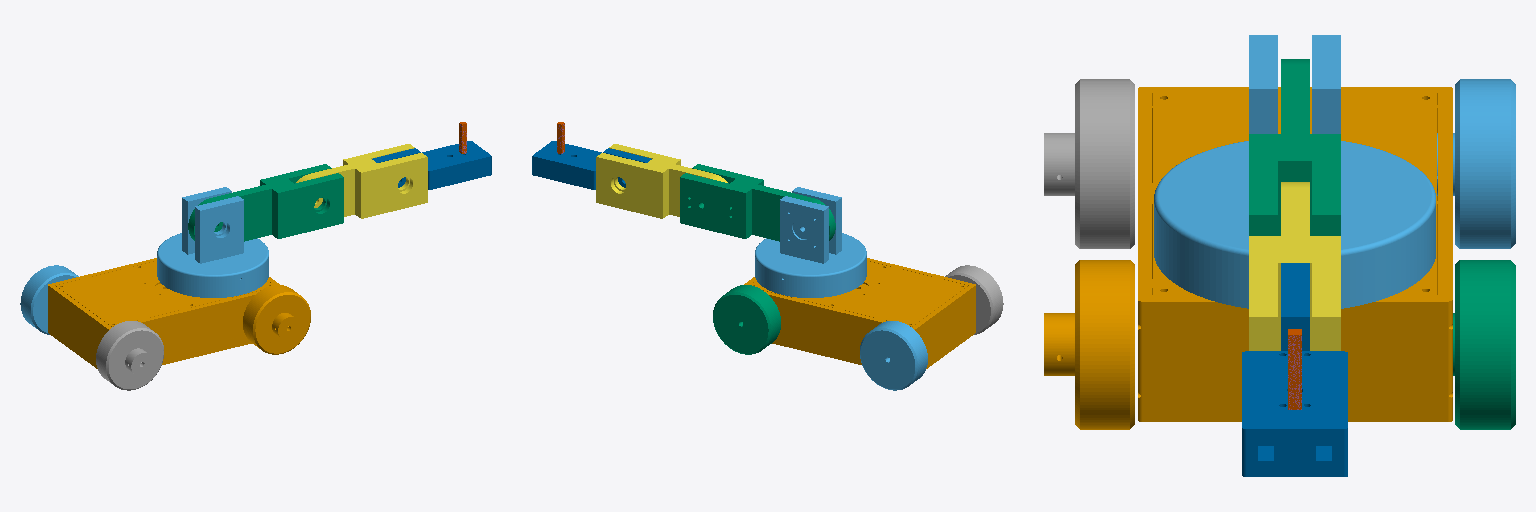
URDF robot description (rover_arm):
<?xml version='1.0' encoding='utf-8'?>
<robot name="rover_arm">
  <mujoco>
    <compiler discardvisual="false" strippath="false" balanceinertia="false" fusestatic="false" />
  </mujoco>
  <link name="base_link">
    <inertial>
      <origin xyz="0.00266683 -0.00320218 0.0271552" rpy="0 0 0" />
      <mass value="2.1159" />
      <inertia ixx="0.00373087" ixy="-0.000309093" ixz="-0.000259285" iyy="0.0133678" iyz="-8.5296e-05" izz="0.0161735" />
    </inertial>
    <visual>
      <origin xyz="0 0 0" rpy="0 0 0" />
      <geometry>
        <mesh filename="meshes/base_link.stl" scale="0.001 0.001 0.001" />
      </geometry>
    </visual>
    <collision>
      <origin xyz="0 0 0.0015" rpy="0 0 0" />
      <geometry>
        <box size="0.21 0.13 0.003" />
      </geometry>
    </collision>
    <collision>
      <origin xyz="0 -0.062 0.0275" rpy="0 0 0" />
      <geometry>
        <box size="0.21 0.006 0.055" />
      </geometry>
    </collision>
    <collision>
      <origin xyz="0 0.062 0.0275" rpy="0 0 0" />
      <geometry>
        <box size="0.21 0.006 0.055" />
      </geometry>
    </collision>
    <collision>
      <origin xyz="-0.102 0 0.0275" rpy="0 0 0" />
      <geometry>
        <box size="0.006 0.118 0.055" />
      </geometry>
    </collision>
    <collision>
      <origin xyz="0.102 0 0.0275" rpy="0 0 0" />
      <geometry>
        <box size="0.006 0.118 0.055" />
      </geometry>
    </collision>
    <collision>
      <origin xyz="0 0 0.053" rpy="0 0 0" />
      <geometry>
        <box size="0.198 0.118 0.004" />
      </geometry>
    </collision>
  </link>
  <link name="turntable">
    <inertial>
      <origin xyz="2.28167e-08 0.0278455 0.0484881" rpy="0 0 0" />
      <mass value="1.47137" />
      <inertia ixx="0.00211943" ixy="9.39501e-10" ixz="8.19907e-10" iyy="0.00167008" iyz="-0.000424945" izz="0.00163093" />
    </inertial>
    <visual>
      <origin xyz="0 0 0" rpy="0 0 0" />
      <geometry>
        <mesh filename="meshes/turntable.stl" scale="0.001 0.001 0.001" />
      </geometry>
    </visual>
    <collision>
      <origin xyz="0 0 0.013" rpy="0 0 0" />
      <geometry>
        <cylinder radius="0.0583" length="0.026" />
      </geometry>
    </collision>
    <collision>
      <origin xyz="0 -0.013 0.056475" rpy="0 0 0" />
      <geometry>
        <box size="0.053 0.012 0.06095" />
      </geometry>
    </collision>
    <collision>
      <origin xyz="0 0.013 0.056475" rpy="0 0 0" />
      <geometry>
        <box size="0.053 0.012 0.06095" />
      </geometry>
    </collision>
  </link>
  <link name="link_shoulder">
    <inertial>
      <origin xyz="0.0880151 0.0040461 1.44388e-19" rpy="0 0 0" />
      <mass value="0.290339" />
      <inertia ixx="0.000100905" ixy="-3.76286e-05" ixz="-2.29424e-21" iyy="0.00058843" iyz="2.96493e-22" izz="0.000572454" />
    </inertial>
    <visual>
      <origin xyz="0 0 0" rpy="0 0 0" />
      <geometry>
        <mesh filename="meshes/link_shoulder.stl" scale="0.001 0.001 0.001" />
      </geometry>
    </visual>
    <collision>
      <origin xyz="0.06 0 0" rpy="0 0 0" />
      <geometry>
        <box size="0.12 0.012 0.053" />
      </geometry>
    </collision>
    <collision>
      <origin xyz="0.10675 0 0" rpy="0 0 0" />
      <geometry>
        <box size="0.0795 0.038 0.053" />
      </geometry>
    </collision>
  </link>
  <link name="link_elbow">
    <inertial>
      <origin xyz="0.0658699 1.80804e-19 2.22913e-19" rpy="0 0 0" />
      <mass value="0.212076" />
      <inertia ixx="6.93894e-05" ixy="2.52573e-21" ixz="-3.57186e-21" iyy="0.00035014" iyz="7.78426e-24" izz="0.000326462" />
    </inertial>
    <visual>
      <origin xyz="0 0 0" rpy="0 0 0" />
      <geometry>
        <mesh filename="meshes/link_elbow.stl" scale="0.001 0.001 0.001" />
      </geometry>
    </visual>
    <collision>
      <origin xyz="0.05 0 0" rpy="0 0 0" />
      <geometry>
        <box size="0.1 0.012 0.053" />
      </geometry>
    </collision>
    <collision>
      <origin xyz="0.08675 0 0" rpy="0 0 0" />
      <geometry>
        <box size="0.0795 0.038 0.053" />
      </geometry>
    </collision>
  </link>
  <link name="gripper_body">
    <inertial>
      <origin xyz="0.0496844 7.24163e-20 -0.00368519" rpy="0 0 0" />
      <mass value="0.179095" />
      <inertia ixx="4.21145e-05" ixy="1.12509e-21" ixz="9.77828e-06" iyy="0.000215351" iyz="3.65534e-22" izz="0.000204799" />
    </inertial>
    <visual>
      <origin xyz="0.0645 0 -0.011" rpy="0 0 0" />
      <geometry>
        <mesh filename="meshes/gripper_body.stl" scale="0.001 0.001 0.001" />
      </geometry>
    </visual>
    <collision>
      <origin xyz="0.0645 0 -0.011" rpy="0 0 0" />
      <geometry>
        <box size="0.076 0.044 0.022" />
      </geometry>
    </collision>
  </link>
  <link name="jaw_a">
    <inertial>
      <origin xyz="0.00915408 0.00650994 0.0111384" rpy="0 0 0" />
      <mass value="0.00405775" />
      <inertia ixx="1.00524e-06" ixy="-1.76866e-07" ixz="-3.01039e-07" iyy="1.31758e-06" iyz="-2.47092e-07" izz="6.05047e-07" />
    </inertial>
    <visual>
      <origin xyz="0 0 0" rpy="0 0 0" />
      <geometry>
        <mesh filename="meshes/jaw_a.stl" scale="0.001 0.001 0.001" />
      </geometry>
    </visual>
    <collision>
      <origin xyz="0 0 0" rpy="0 0 0" />
      <geometry>
        <box size="0.0376991 0.006 0.006" />
      </geometry>
    </collision>
    <collision>
      <origin xyz="0.0158496 0.012 0.0225" rpy="0 0 0" />
      <geometry>
        <box size="0.006 0.006 0.045" />
      </geometry>
    </collision>
  </link>
  <link name="jaw_b">
    <inertial>
      <origin xyz="0.00915408 -0.00650994 0.0111384" rpy="0 0 0" />
      <mass value="0.00405775" />
      <inertia ixx="1.00524e-06" ixy="1.76866e-07" ixz="-3.01039e-07" iyy="1.31758e-06" iyz="2.47092e-07" izz="6.05047e-07" />
    </inertial>
    <visual>
      <origin xyz="0 0 0" rpy="0 0 0" />
      <geometry>
        <mesh filename="meshes/jaw_b.stl" scale="0.001 0.001 0.001" />
      </geometry>
    </visual>
    <collision>
      <origin xyz="0 0 0" rpy="0 0 0" />
      <geometry>
        <box size="0.0376991 0.006 0.006" />
      </geometry>
    </collision>
    <collision>
      <origin xyz="0.0158496 -0.012 0.0225" rpy="0 0 0" />
      <geometry>
        <box size="0.006 0.006 0.045" />
      </geometry>
    </collision>
  </link>
  <link name="wheel_0">
    <inertial>
      <origin xyz="-3.14141e-10 -0.00115343 -7.732e-11" rpy="0 0 0" />
      <mass value="0.125109" />
      <inertia ixx="4.49124e-05" ixy="-6.73605e-13" ixz="-1.0037e-14" iyy="7.24919e-05" iyz="-2.07469e-13" izz="4.49036e-05" />
    </inertial>
    <visual>
      <origin xyz="0 0 0" rpy="0 0 0" />
      <geometry>
        <mesh filename="meshes/wheel.stl" scale="0.001 0.001 0.001" />
      </geometry>
    </visual>
    <collision>
      <origin xyz="0 0 0" rpy="1.5708 0 0" />
      <geometry>
        <cylinder radius="0.035" length="0.025" />
      </geometry>
    </collision>
  </link>
  <link name="wheel_1">
    <inertial>
      <origin xyz="-3.14141e-10 -0.00115343 -7.732e-11" rpy="0 0 0" />
      <mass value="0.125109" />
      <inertia ixx="4.49124e-05" ixy="-6.73605e-13" ixz="-1.0037e-14" iyy="7.24919e-05" iyz="-2.07469e-13" izz="4.49036e-05" />
    </inertial>
    <visual>
      <origin xyz="0 0 0" rpy="0 0 0" />
      <geometry>
        <mesh filename="meshes/wheel.stl" scale="0.001 0.001 0.001" />
      </geometry>
    </visual>
    <collision>
      <origin xyz="0 0 0" rpy="1.5708 0 0" />
      <geometry>
        <cylinder radius="0.035" length="0.025" />
      </geometry>
    </collision>
  </link>
  <link name="wheel_2">
    <inertial>
      <origin xyz="-3.14141e-10 -0.00115343 -7.732e-11" rpy="0 0 0" />
      <mass value="0.125109" />
      <inertia ixx="4.49124e-05" ixy="-6.73605e-13" ixz="-1.0037e-14" iyy="7.24919e-05" iyz="-2.07469e-13" izz="4.49036e-05" />
    </inertial>
    <visual>
      <origin xyz="0 0 0" rpy="0 0 0" />
      <geometry>
        <mesh filename="meshes/wheel.stl" scale="0.001 0.001 0.001" />
      </geometry>
    </visual>
    <collision>
      <origin xyz="0 0 0" rpy="1.5708 0 0" />
      <geometry>
        <cylinder radius="0.035" length="0.025" />
      </geometry>
    </collision>
  </link>
  <link name="wheel_3">
    <inertial>
      <origin xyz="-3.14141e-10 -0.00115343 -7.732e-11" rpy="0 0 0" />
      <mass value="0.125109" />
      <inertia ixx="4.49124e-05" ixy="-6.73605e-13" ixz="-1.0037e-14" iyy="7.24919e-05" iyz="-2.07469e-13" izz="4.49036e-05" />
    </inertial>
    <visual>
      <origin xyz="0 0 0" rpy="0 0 0" />
      <geometry>
        <mesh filename="meshes/wheel.stl" scale="0.001 0.001 0.001" />
      </geometry>
    </visual>
    <collision>
      <origin xyz="0 0 0" rpy="1.5708 0 0" />
      <geometry>
        <cylinder radius="0.035" length="0.025" />
      </geometry>
    </collision>
  </link>
  <joint name="yaw" type="revolute">
    <parent link="base_link" />
    <child link="turntable" />
    <origin xyz="0.057 0 0.055" rpy="0 0 0" />
    <axis xyz="0 0 1" />
    <limit effort="0.43" velocity="5" lower="-3.14159" upper="3.14159" />
    <dynamics damping="0.05" friction="0.01" />
  </joint>
  <joint name="shoulder" type="revolute">
    <parent link="turntable" />
    <child link="link_shoulder" />
    <origin xyz="0 0 0.05886" rpy="0 0 0" />
    <axis xyz="0 1 0" />
    <limit effort="0.43" velocity="5" lower="-1.65806" upper="1.65806" />
    <dynamics damping="0.05" friction="0.01" />
  </joint>
  <joint name="elbow" type="revolute">
    <parent link="link_shoulder" />
    <child link="link_elbow" />
    <origin xyz="0.12 0 0" rpy="0 0 0" />
    <axis xyz="0 1 0" />
    <limit effort="2.1" velocity="7.3" lower="-2.61799" upper="2.61799" />
    <dynamics damping="0.05" friction="0.01" />
  </joint>
  <joint name="wrist" type="fixed">
    <parent link="link_elbow" />
    <child link="gripper_body" />
    <origin xyz="0.1 0 0" rpy="0 0 0" />
  </joint>
  <joint name="jaw_a" type="prismatic">
    <parent link="gripper_body" />
    <child link="jaw_a" />
    <origin xyz="0.0645 -0.012 0" rpy="0 0 0" />
    <axis xyz="-1 0 0" />
    <limit effort="50" velocity="0.05" lower="0" upper="0.007" />
    <dynamics damping="0.05" friction="0.01" />
  </joint>
  <joint name="jaw_b" type="prismatic">
    <parent link="gripper_body" />
    <child link="jaw_b" />
    <origin xyz="0.0645 0.012 0" rpy="0 0 0" />
    <axis xyz="1 0 0" />
    <limit effort="50" velocity="0.05" lower="0" upper="0.007" />
    <dynamics damping="0.05" friction="0.01" />
    <mimic joint="jaw_a" multiplier="1" offset="0" />
  </joint>
  <joint name="axle_0" type="continuous">
    <parent link="base_link" />
    <child link="wheel_0" />
    <origin xyz="-0.0882 -0.0785 0.0275" rpy="0 0 0" />
    <axis xyz="0 1 0" />
    <limit effort="0.43" velocity="20" />
    <dynamics damping="0.05" friction="0.01" />
  </joint>
  <joint name="axle_1" type="continuous">
    <parent link="base_link" />
    <child link="wheel_1" />
    <origin xyz="0.0882 -0.0785 0.0275" rpy="0 0 0" />
    <axis xyz="0 1 0" />
    <limit effort="0.43" velocity="20" />
    <dynamics damping="0.05" friction="0.01" />
  </joint>
  <joint name="axle_2" type="continuous">
    <parent link="base_link" />
    <child link="wheel_2" />
    <origin xyz="-0.0882 0.0785 0.0275" rpy="0 0 0" />
    <axis xyz="0 1 0" />
    <limit effort="0.43" velocity="20" />
    <dynamics damping="0.05" friction="0.01" />
  </joint>
  <joint name="axle_3" type="continuous">
    <parent link="base_link" />
    <child link="wheel_3" />
    <origin xyz="0.0882 0.0785 0.0275" rpy="0 0 0" />
    <axis xyz="0 1 0" />
    <limit effort="0.43" velocity="20" />
    <dynamics damping="0.05" friction="0.01" />
  </joint>
</robot>

--- What the picture shows (computed from the rendered views, not written in the file) ---
3 views of the same robot in one strip: view 1: azimuth 30°, elevation 25°; view 2: azimuth 150°, elevation 25°; view 3: azimuth 270°, elevation 25° (orthographic).
Robot: rover_arm — 11 links, 10 joints (3 revolute, 4 continuous, 2 prismatic, 1 fixed); root link base_link; default pose: all joints at 0.
Visible links, largest first — view 1: base_link, turntable, link_shoulder, link_elbow, wheel_1, wheel_0, gripper_body, wheel_2; view 2: base_link, turntable, link_shoulder, link_elbow, wheel_3, wheel_2, gripper_body, wheel_0; view 3: base_link, turntable, gripper_body, wheel_0, wheel_1, wheel_2, wheel_3, link_shoulder, link_elbow, jaw_a.
Link boxes in pixels (x1,y1,x2,y2): base_link: (48, 258, 279, 368); turntable: (157, 187, 268, 297); link_shoulder: (188, 164, 343, 241); link_elbow: (296, 144, 427, 218); wheel_1: (243, 285, 310, 354); wheel_0: (96, 321, 163, 390); gripper_body: (372, 141, 491, 189); wheel_2: (20, 265, 78, 334); base_link: (744, 258, 975, 368); turntable: (755, 187, 866, 297); link_shoulder: (680, 164, 835, 241); link_elbow: (596, 144, 727, 218); wheel_3: (713, 285, 780, 354); wheel_2: (860, 321, 927, 390); gripper_body: (532, 141, 651, 189); wheel_0: (945, 265, 1003, 334); base_link: (1138, 87, 1452, 421); turntable: (1154, 35, 1435, 308); gripper_body: (1242, 263, 1347, 476); wheel_0: (1044, 79, 1134, 248); wheel_1: (1044, 260, 1134, 429); wheel_2: (1437, 79, 1515, 248); wheel_3: (1453, 260, 1515, 429); link_shoulder: (1249, 59, 1340, 235); link_elbow: (1249, 182, 1340, 350); jaw_a: (1288, 329, 1301, 409).
Size in the robot's own frame: 0.5027 by 0.1945 by 0.1663 metres.
11 mesh visuals loaded from 8 distinct referenced files (8 binary STL).
